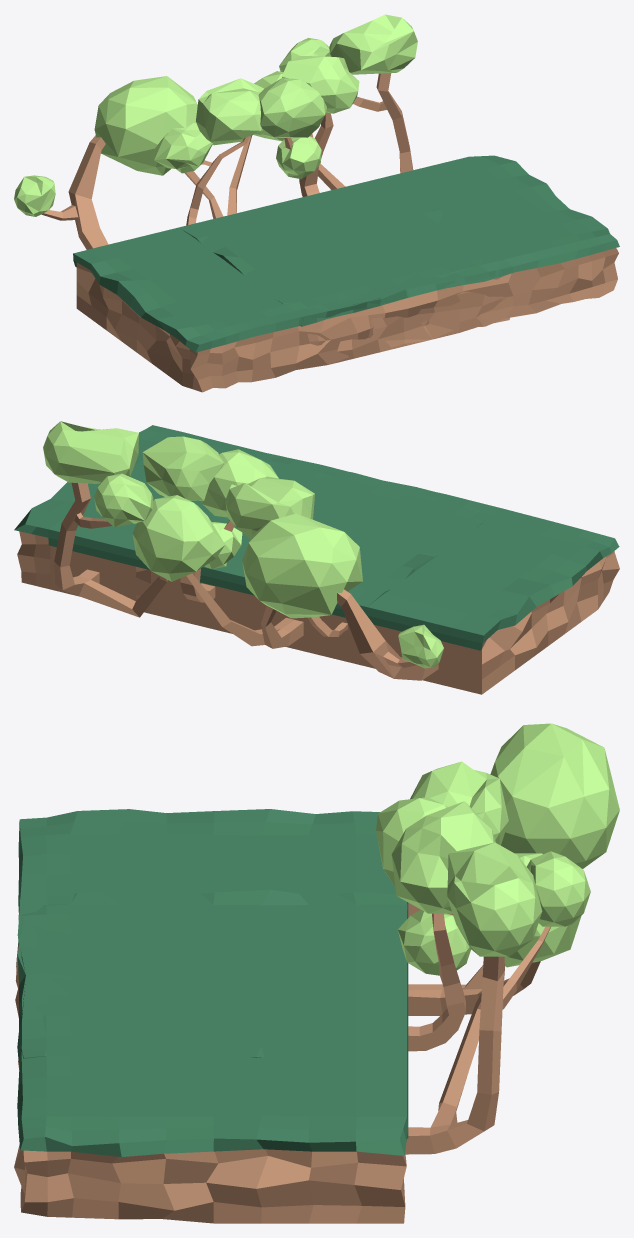
Rendered from dschungelPlatforms.fbx.
The picture shows the model from 3 angles, top to bottom: view 1: azimuth 30°, elevation 25°; view 2: azimuth 150°, elevation 25°; view 3: azimuth 270°, elevation 25°; orthographic projection. The views are drawn at different scales.
Visible parts, largest first — view 1: LargeDschungelGrass, GrassDschungel; view 2: LargeDschungelGrass, GrassDschungel; view 3: LargeDschungelGrass, GrassDschungel.
Boxes of the visible parts, <box> form: LargeDschungelGrass: <box>14,14,619,392</box>; GrassDschungel: <box>149,56,513,364</box>; LargeDschungelGrass: <box>14,421,619,694</box>; GrassDschungel: <box>135,436,483,666</box>; LargeDschungelGrass: <box>14,723,619,1223</box>; GrassDschungel: <box>17,761,508,1062</box>.
Size of the model in its own units: 16.81 by 6.7 by 12.73.
